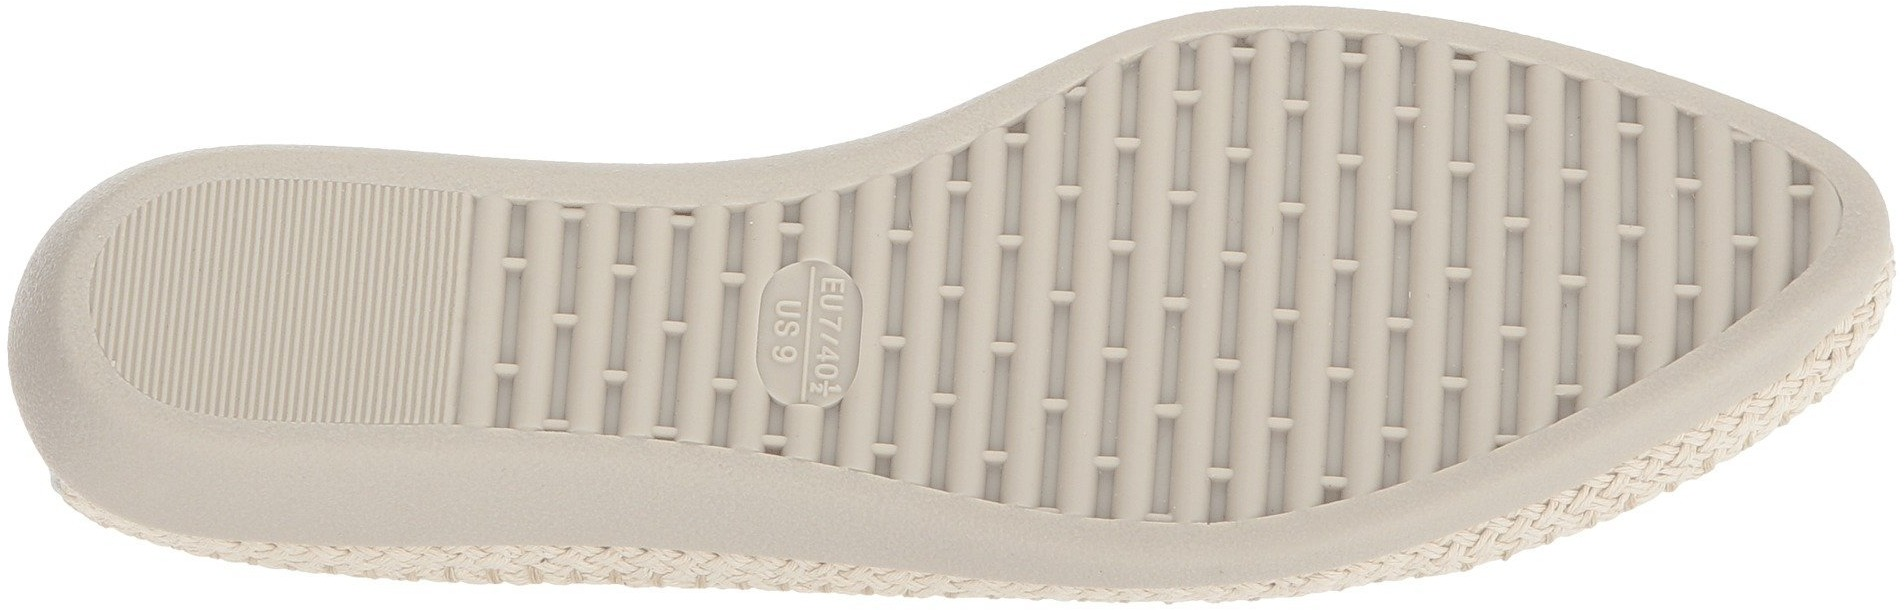circle: (726, 243, 903, 444)
line: (1043, 156, 1460, 479), (1479, 98, 1716, 350), (484, 219, 699, 428)
other: (263, 211, 450, 395), (109, 224, 261, 369)
quad: (1043, 156, 1460, 479), (1479, 98, 1716, 350), (484, 219, 699, 428), (726, 243, 903, 444)
text: (726, 243, 903, 444), (777, 275, 852, 369)
